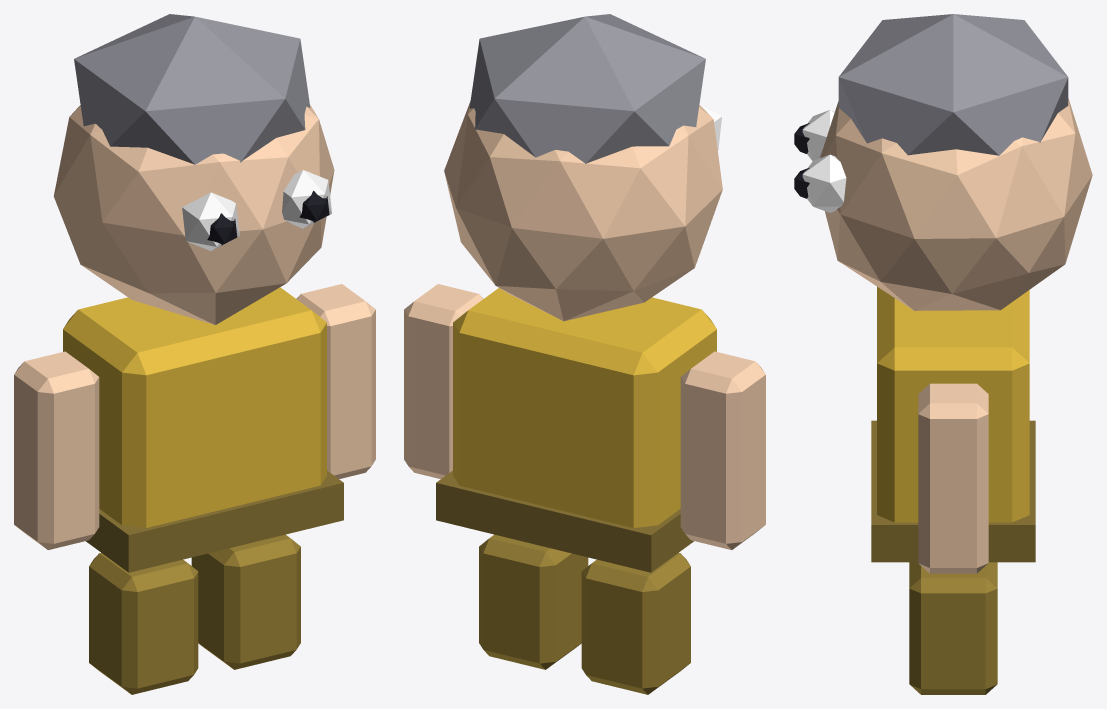
File: ArmadaAdmiral.fbx
3 renders of one model, left to right at view 1: azimuth 30°, elevation 25°; view 2: azimuth 150°, elevation 25°; view 3: azimuth 270°, elevation 25°, orthographic.
Parts seen in each view (by area): view 1: ArmadaAdmiral; view 2: ArmadaAdmiral; view 3: ArmadaAdmiral.
Boxes of the visible parts, <box> form: ArmadaAdmiral: <box>14,14,375,694</box>; ArmadaAdmiral: <box>404,14,765,694</box>; ArmadaAdmiral: <box>794,14,1092,694</box>.
Size of the model in its own units: 8.25 by 15.09 by 6.35.
Materials: 1 (1 with a texture image).
